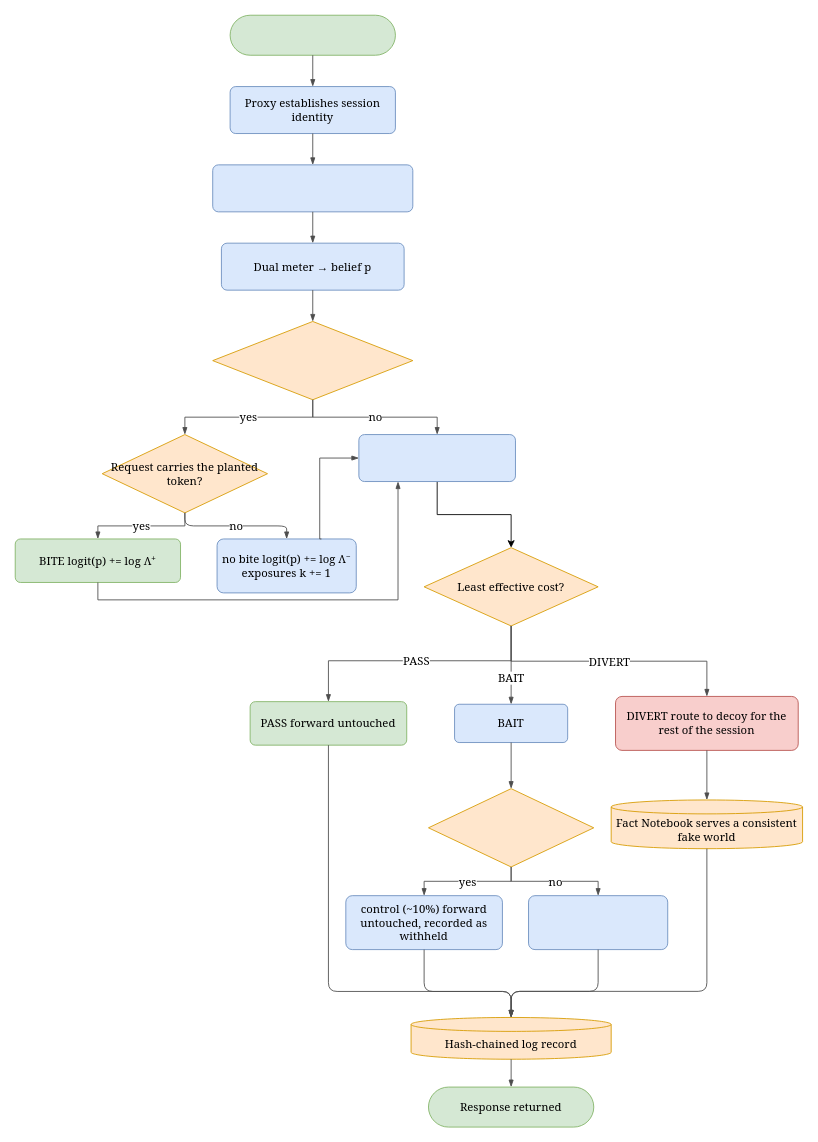
Some shapes in this 818 by 1142 pixel diagram are drawn without their labels. The shapes that lost their labels are listed below. From the top down, each one's centre as x and y in pixels, then its label:
At point 312,34: "Request arrives".
At point 312,188: "Extract 18 features from request + session history".
At point 312,360: "Bait planted earlier this session?".
At point 436,458: "Policy: E[C(a)] per action, V(p) per deployable bait".
At point 511,827: "Holdout draw: withhold the probe?".
At point 598,922: "treated (~90%) certificate re-checked, probe injected".
